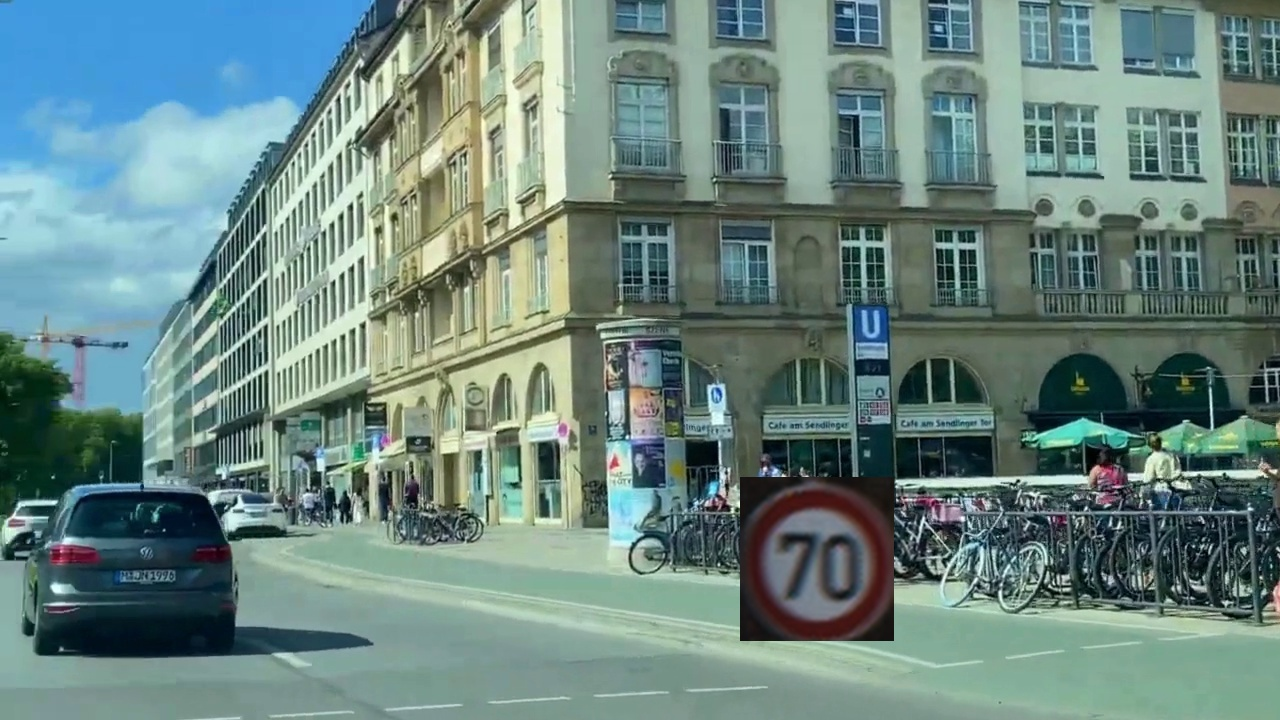Speed 70: (740, 477, 894, 641)
